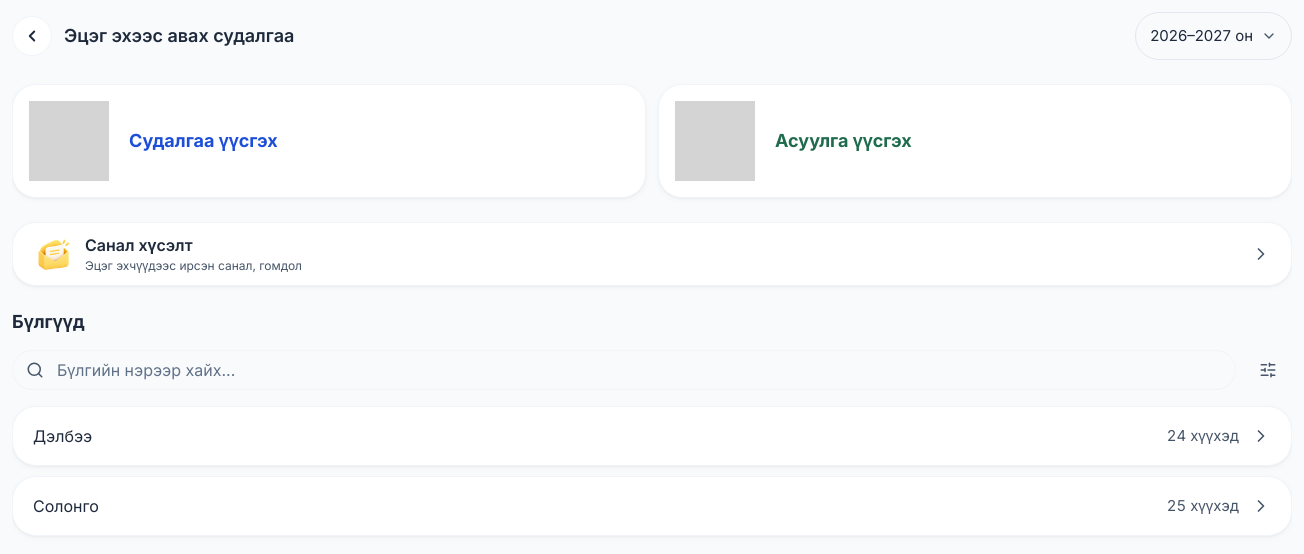
Test case: the survey hub › shows management a searchable group launcher
This screenshot has width=1304, height=554.
In the search field labelled "Бүлгийн нэрээр хайх": coordinates (624, 370) [12,350,1236,390], type "Дэл"
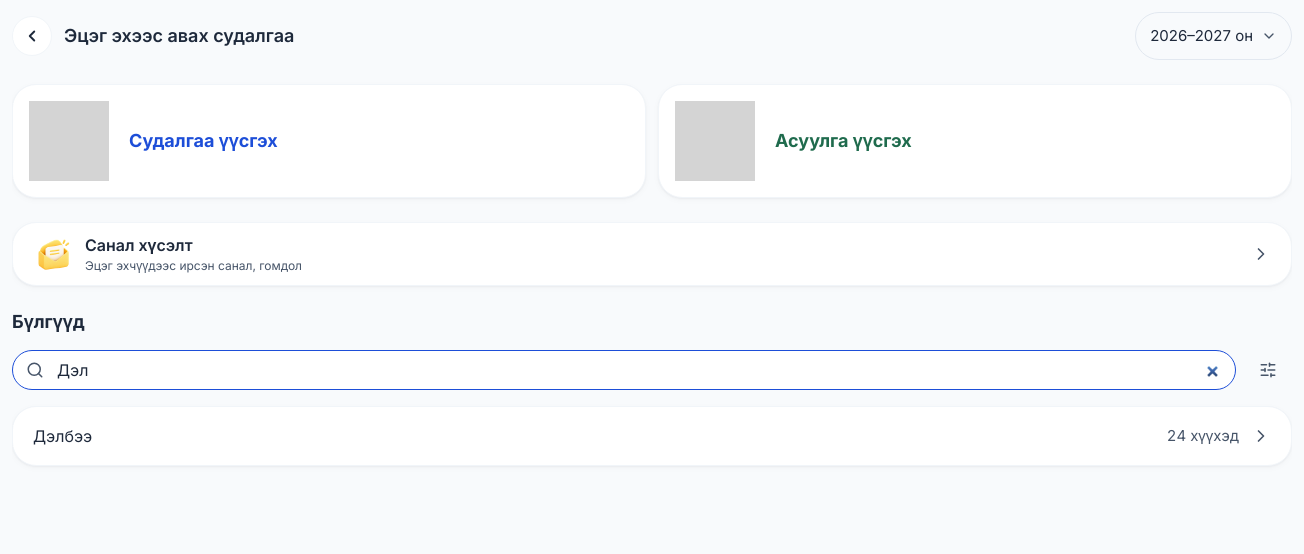
expect the link "Дэлбээ 24 хүүхэд" is shown: met, box [12,406,1292,466]
expect the link "Солонго 25 хүүхэд" is gone: met
